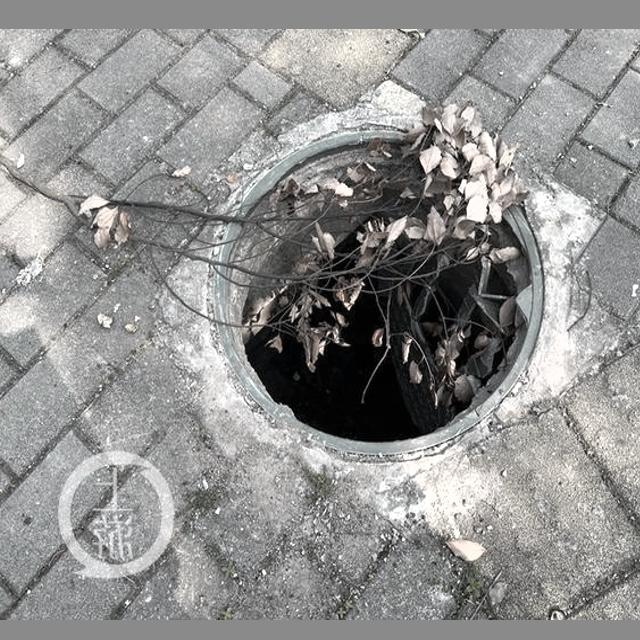lose: (209, 113, 542, 462)
